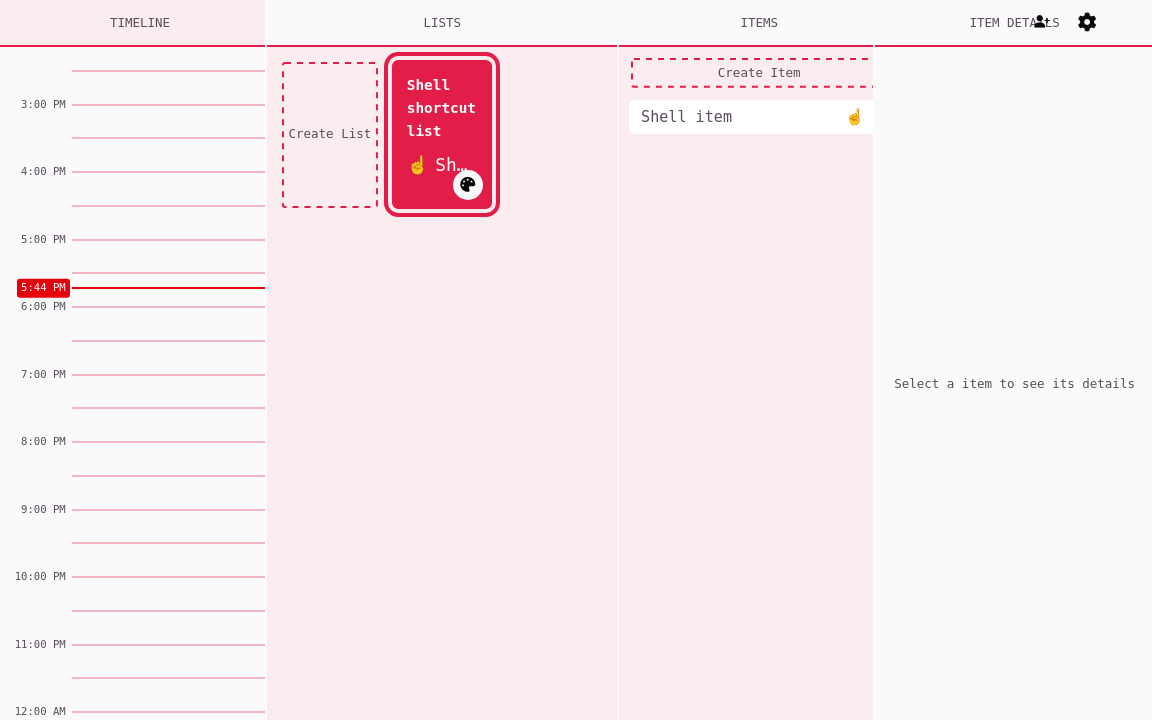
Test: PlannerShell contextual shortcuts › closes Options for a pointer-down outside its wrapper
(page scrolled)
Step 1. Click the button named "Options" → (1087,22), box left=1064, top=0, right=1110, bottom=45
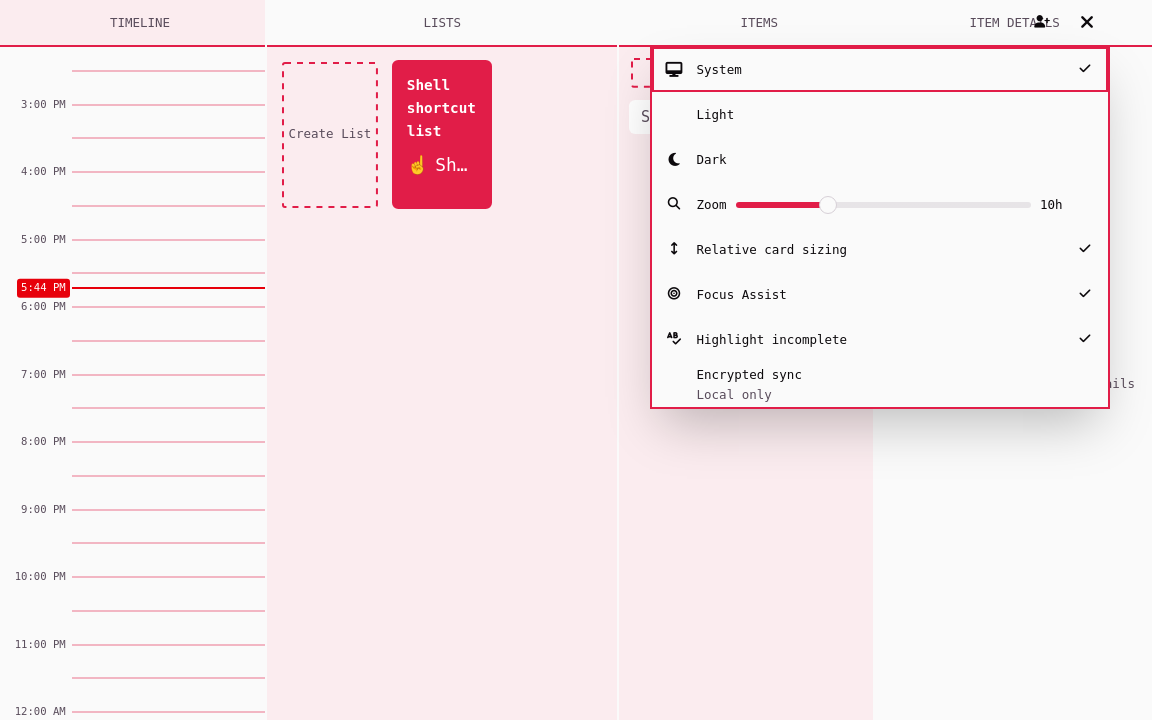
Step 2. Press the mouse on the element that starts with "Timeline" → (576,360), box left=0, top=0, right=1151, bottom=719
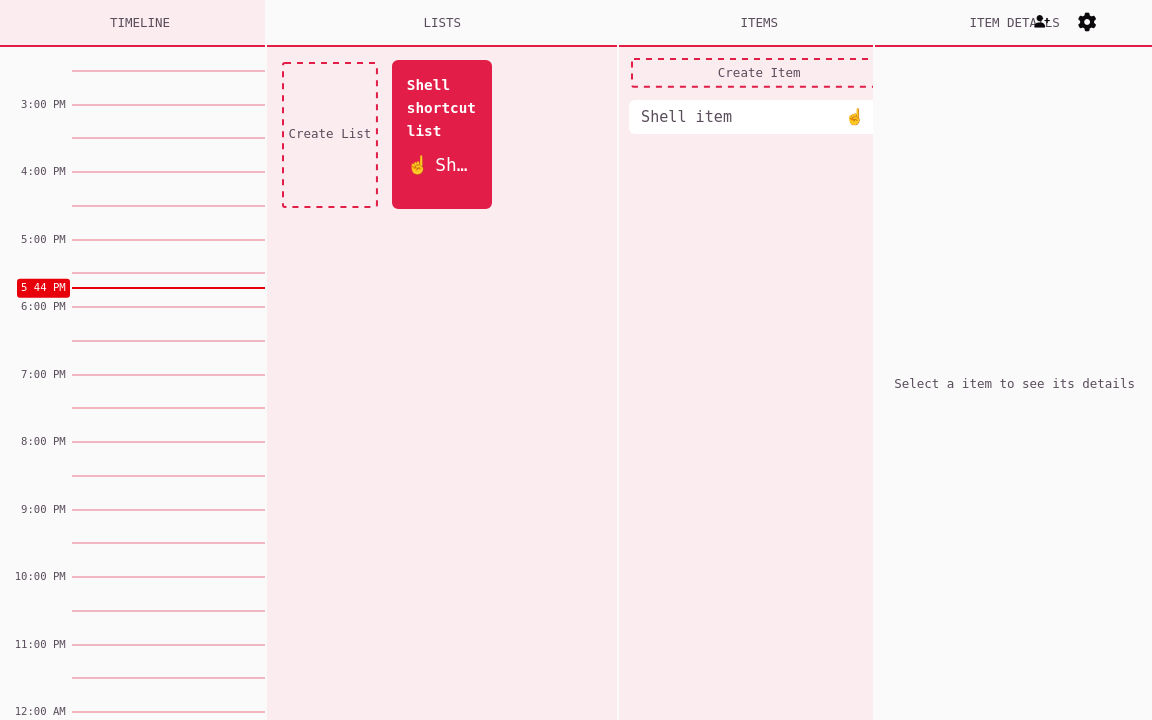
Result: the button named "Options" is collapsed at left=1064, top=0, right=1110, bottom=45
